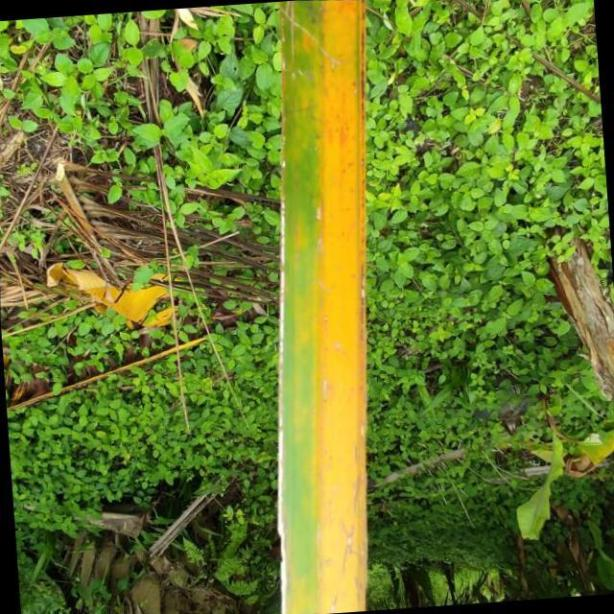Megnesium: (275, 0, 368, 614)
